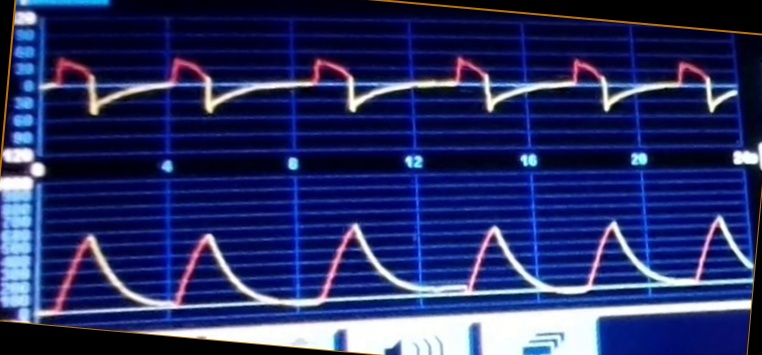Normal Flow: (44, 35, 737, 139)
Normal Volume: (42, 205, 752, 307)
